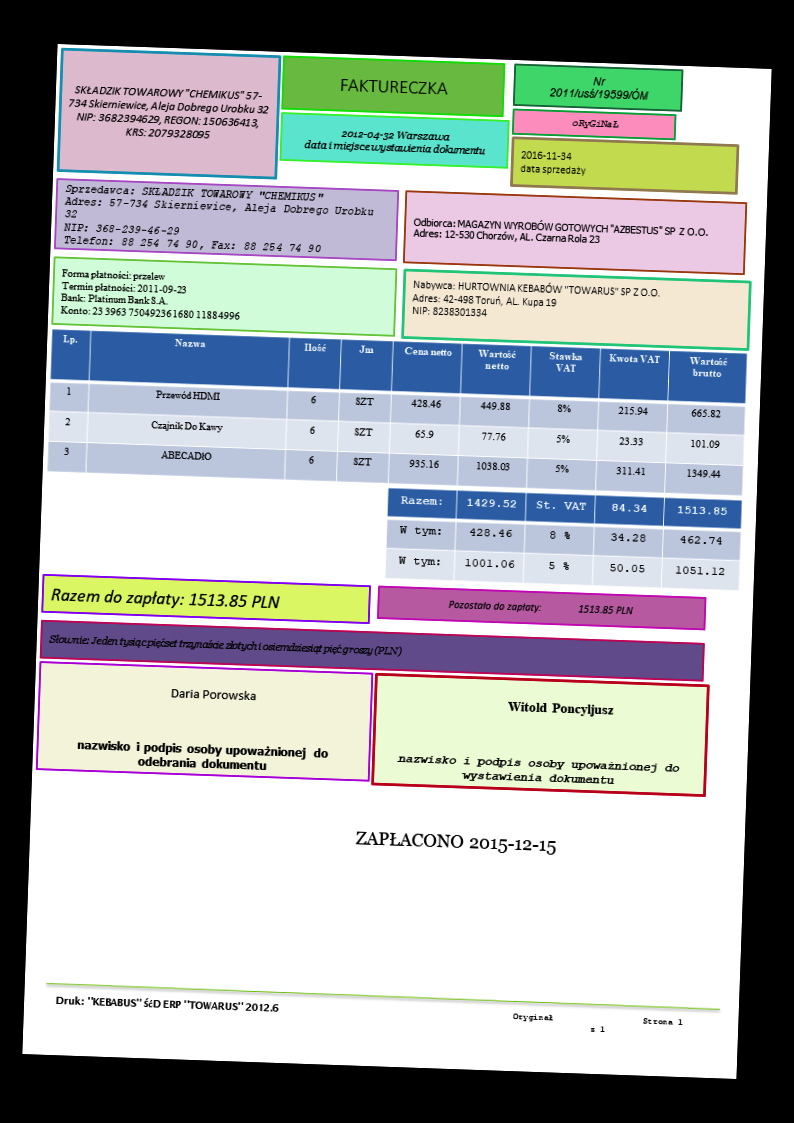Table: (45, 327, 748, 497), (382, 487, 744, 591)
TextBox: (60, 179, 378, 257), (65, 80, 271, 145), (409, 277, 661, 324), (45, 628, 403, 661), (393, 751, 680, 790), (56, 264, 244, 322), (411, 215, 710, 250), (72, 738, 331, 776), (47, 581, 282, 611), (52, 989, 284, 1016), (351, 828, 559, 858), (301, 125, 489, 158), (510, 1011, 687, 1038), (444, 596, 635, 617), (546, 71, 651, 103), (336, 74, 452, 99), (504, 697, 618, 719), (518, 147, 588, 178), (167, 682, 260, 704), (569, 115, 622, 130)
